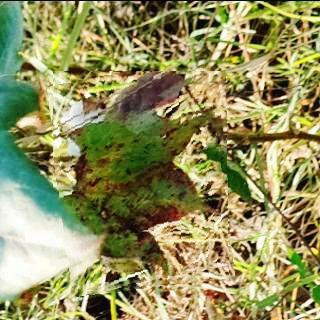blight: (53, 70, 229, 292)
